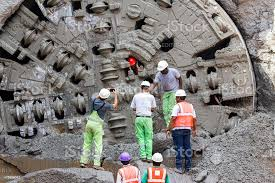arm: (165, 102, 178, 132), (189, 103, 200, 136), (129, 93, 138, 116), (149, 94, 158, 113)
footwear: (181, 166, 192, 175)
glove: (190, 126, 199, 137)
helmet: (117, 150, 132, 164), (173, 86, 187, 99), (150, 151, 164, 164), (155, 58, 169, 70), (138, 78, 151, 89)
human: (167, 85, 198, 172), (129, 77, 157, 153), (151, 56, 180, 112), (114, 149, 139, 182), (143, 150, 169, 181), (125, 50, 141, 74)
leg: (92, 119, 106, 167), (181, 129, 193, 174), (141, 116, 154, 156)
nohelmet: (117, 150, 132, 164)
novest: (157, 68, 177, 92)
vest: (170, 100, 194, 131), (132, 90, 154, 117), (117, 164, 137, 181), (146, 165, 166, 181), (128, 56, 137, 65)
